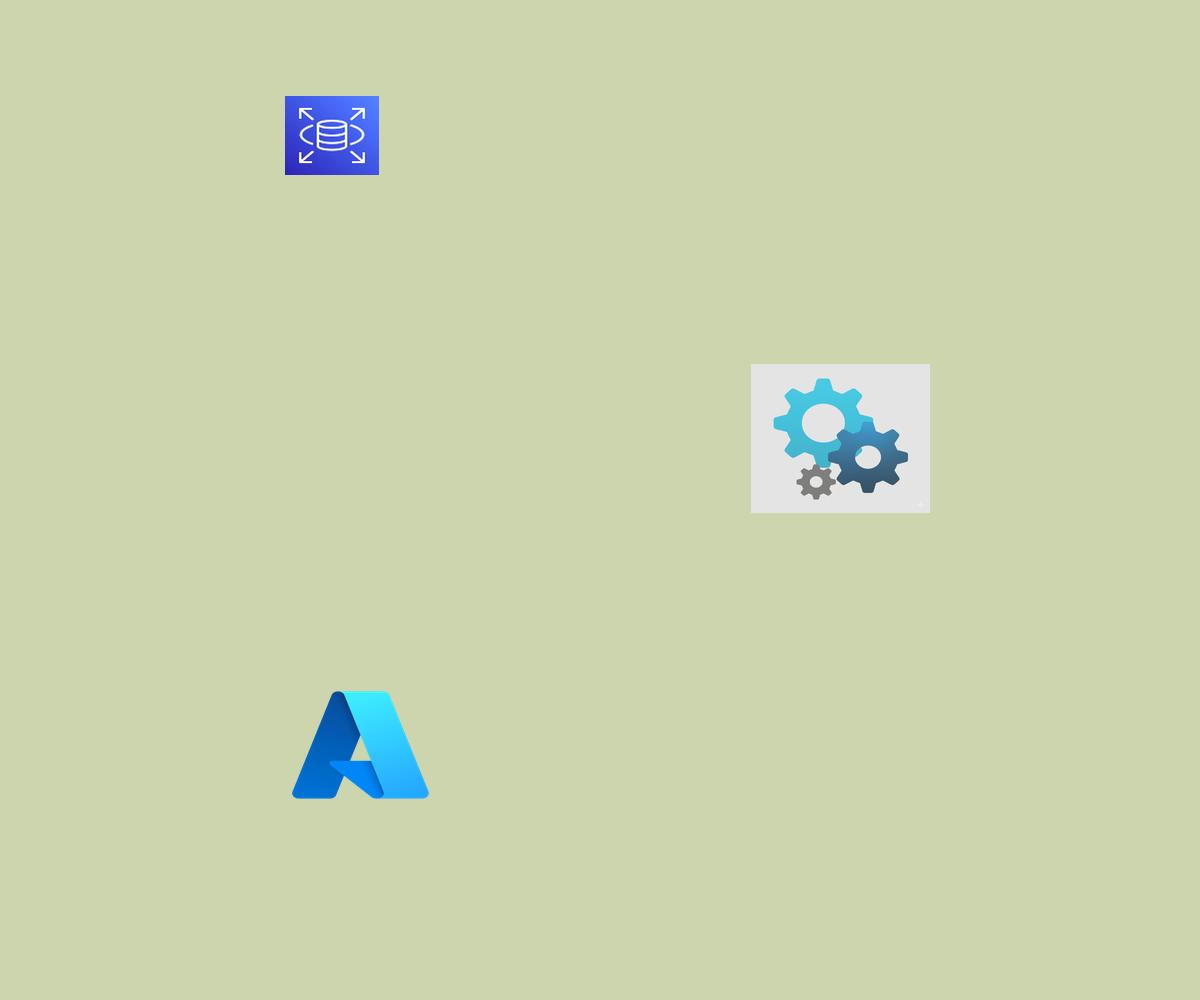AWS-RDS: (285, 96, 379, 175)
Azure_api: (751, 364, 930, 513)
Azure_services: (286, 683, 435, 807)
